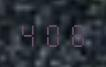four: (18, 20, 40, 47)
six: (65, 20, 87, 47)
zero: (42, 20, 64, 47)
